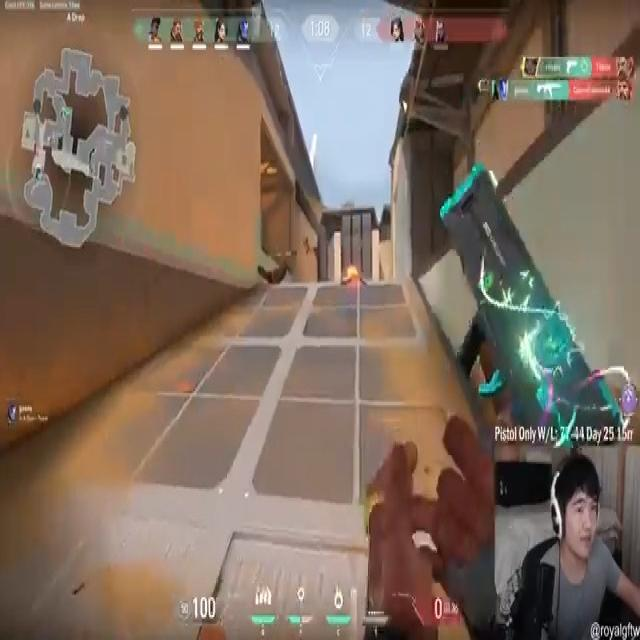gun: (440, 151, 618, 445)
